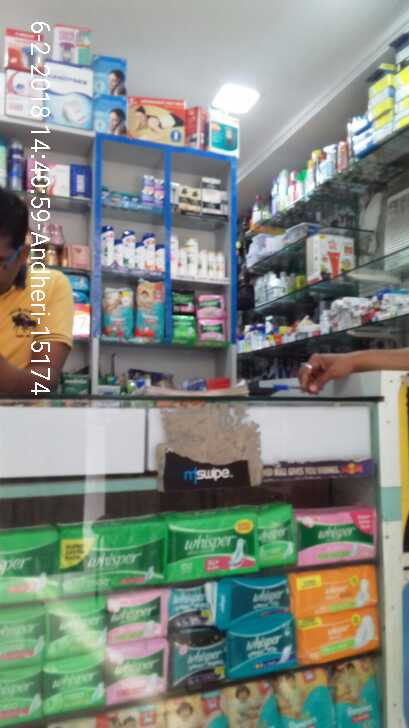vicks: (101, 174, 163, 204)
